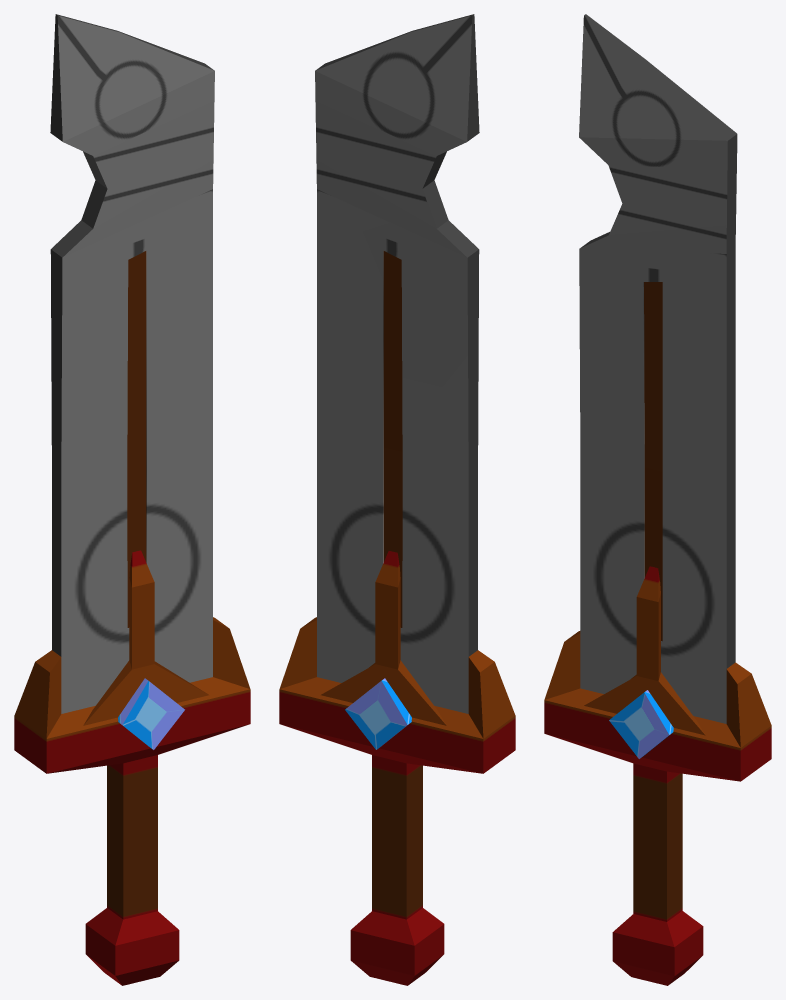
Rendered from Sword.fbx.
3 views of the same model, side by side, from view 1: azimuth 30°, elevation 25°; view 2: azimuth 150°, elevation 25°; view 3: azimuth 330°, elevation 25° (orthographic). The views are drawn at different scales.
Visible parts, largest first — view 1: Cube; view 2: Cube; view 3: Cube.
Boxes of the visible parts, x1,y1,x2,y2 form: Cube: (14,14,250,985); Cube: (279,14,515,985); Cube: (544,14,771,985).
Size of the model in its own units: 96.89 by 444 by 33.6.
